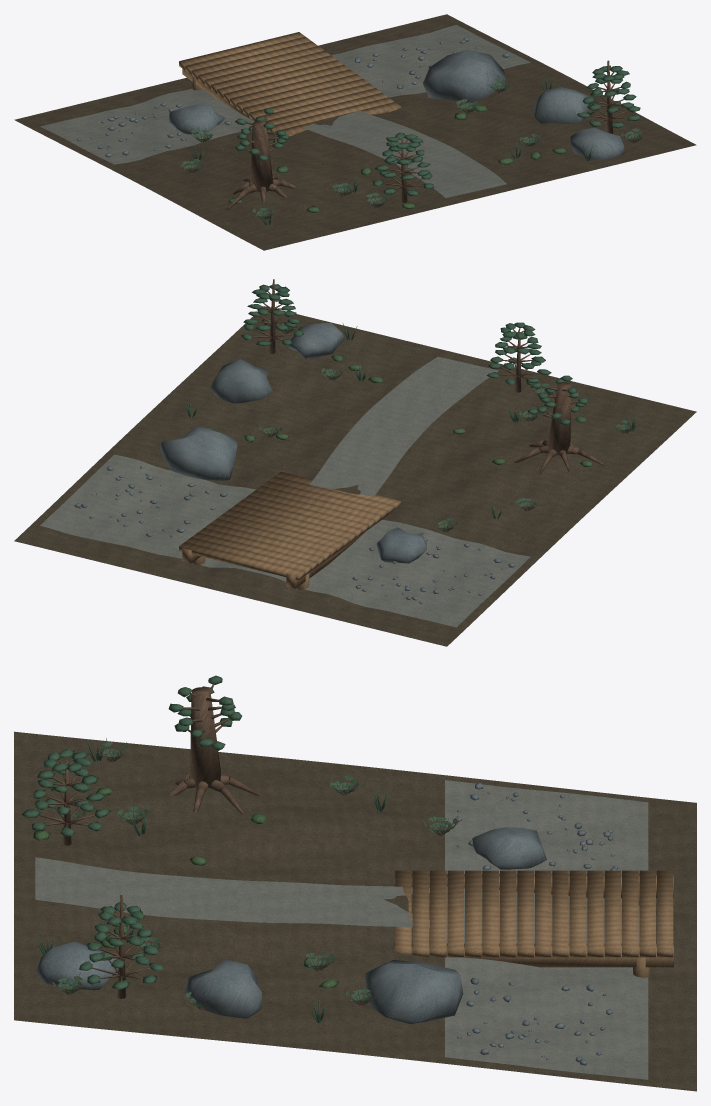
The picture shows the model from 3 angles, top to bottom: view 1: azimuth 30°, elevation 25°; view 2: azimuth 150°, elevation 25°; view 3: azimuth 270°, elevation 25°; orthographic projection. The views are drawn at different scales.
Visible parts, largest first — view 1: VIS_Terrain_Surface_17, VIS_Shoreline_PebbleBand_16, VIS_Dock_Planks_06, VIS_Granitic_Boulders_12, VIS_Footpath_Gravel_10, VIS_Young_Cedar_NeedleSprays_19, VIS_Ferns_Leaflets_08, VIS_Cedar_WeatheredTrunk_03, VIS_Ferns_Stems_09, VIS_Shore_Cobbles_15, VIS_Cedar_Needles_01, VIS_Young_Cedar_Boughs_18 (+4 smaller); view 2: VIS_Terrain_Surface_17, VIS_Shoreline_PebbleBand_16, VIS_Dock_Planks_06, VIS_Footpath_Gravel_10, VIS_Granitic_Boulders_12, VIS_Young_Cedar_NeedleSprays_19, VIS_Shore_Cobbles_15, VIS_Cedar_WeatheredTrunk_03, VIS_Ferns_Leaflets_08, VIS_Cedar_Needles_01, VIS_Cedar_Roots_02, VIS_Young_Cedar_Boughs_18 (+3 smaller); view 3: VIS_Terrain_Surface_17, VIS_Shoreline_PebbleBand_16, VIS_Dock_Planks_06, VIS_Footpath_Gravel_10, VIS_Granitic_Boulders_12, VIS_Young_Cedar_NeedleSprays_19, VIS_Dock_Stringer_07, VIS_Ferns_Leaflets_08, VIS_Cedar_WeatheredTrunk_03, VIS_Shore_Cobbles_15, VIS_Young_Cedar_Boughs_18, VIS_Ferns_Stems_09 (+5 smaller).
Part boxes in pixels (x1,y1,x2,y2): VIS_Terrain_Surface_17: [14, 14, 696, 250]; VIS_Shoreline_PebbleBand_16: [40, 24, 530, 164]; VIS_Dock_Planks_06: [179, 32, 400, 135]; VIS_Granitic_Boulders_12: [168, 49, 624, 159]; VIS_Footpath_Gravel_10: [303, 110, 506, 197]; VIS_Young_Cedar_NeedleSprays_19: [373, 65, 640, 196]; VIS_Ferns_Leaflets_08: [179, 78, 642, 218]; VIS_Cedar_WeatheredTrunk_03: [250, 120, 273, 191]; VIS_Ferns_Stems_09: [177, 75, 644, 220]; VIS_Shore_Cobbles_15: [77, 37, 509, 157]; VIS_Cedar_Needles_01: [235, 108, 290, 160]; VIS_Young_Cedar_Boughs_18: [382, 72, 628, 190]; VIS_Terrain_Surface_17: [14, 306, 696, 646]; VIS_Shoreline_PebbleBand_16: [40, 454, 530, 627]; VIS_Dock_Planks_06: [179, 472, 400, 580]; VIS_Footpath_Gravel_10: [309, 356, 499, 496]; VIS_Granitic_Boulders_12: [160, 323, 426, 563]; VIS_Young_Cedar_NeedleSprays_19: [241, 284, 551, 385]; VIS_Shore_Cobbles_15: [74, 466, 515, 603]; VIS_Cedar_WeatheredTrunk_03: [547, 382, 571, 455]; VIS_Ferns_Leaflets_08: [206, 322, 636, 530]; VIS_Cedar_Needles_01: [527, 375, 588, 425]; VIS_Cedar_Roots_02: [514, 440, 605, 474]; VIS_Young_Cedar_Boughs_18: [252, 291, 538, 379]; VIS_Terrain_Surface_17: [14, 731, 696, 1091]; VIS_Shoreline_PebbleBand_16: [445, 780, 648, 1079]; VIS_Dock_Planks_06: [395, 870, 673, 957]; VIS_Footpath_Gravel_10: [35, 857, 517, 933]; VIS_Granitic_Boulders_12: [36, 827, 546, 1024]; VIS_Young_Cedar_NeedleSprays_19: [21, 749, 164, 989]; VIS_Dock_Stringer_07: [394, 874, 673, 967]; VIS_Ferns_Leaflets_08: [51, 742, 457, 1007]; VIS_Cedar_WeatheredTrunk_03: [190, 687, 221, 787]; VIS_Shore_Cobbles_15: [455, 782, 617, 1065]; VIS_Young_Cedar_Boughs_18: [38, 757, 150, 980]; VIS_Ferns_Stems_09: [49, 738, 459, 1010].
Bounding box in the file's own units: 8 × 2.29 × 8.
8 materials, 8 textured.
